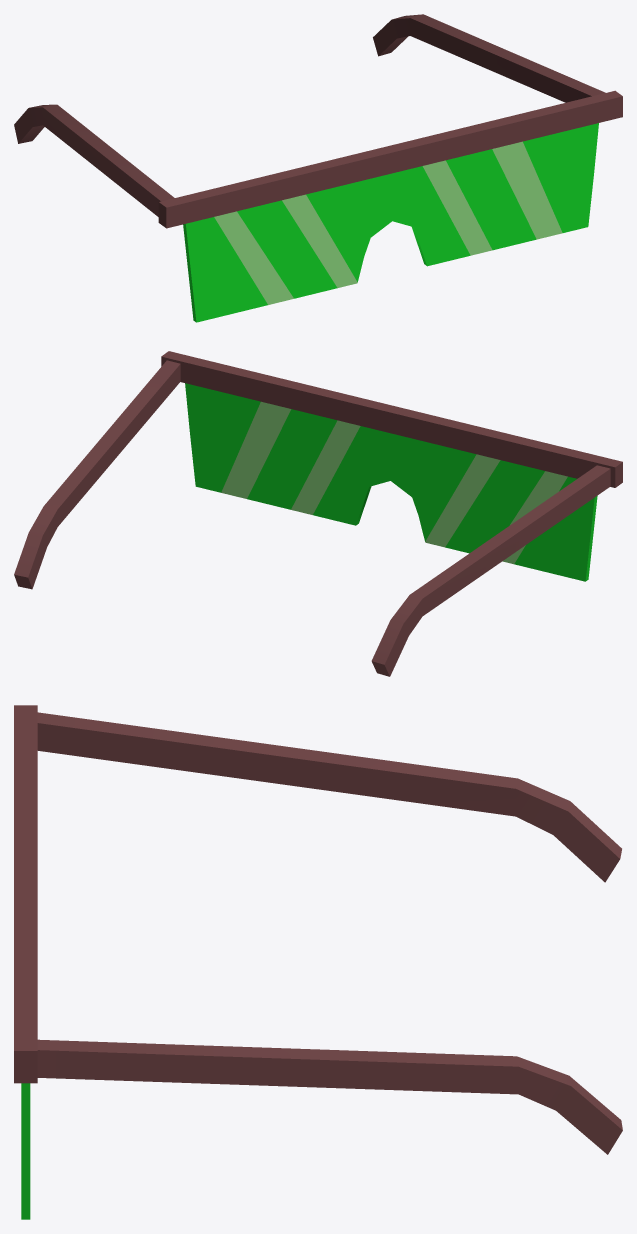
File: Glasses_01.fbx
3 renders of one model, top to bottom at view 1: azimuth 30°, elevation 25°; view 2: azimuth 150°, elevation 25°; view 3: azimuth 270°, elevation 25°, orthographic. The views are drawn at different scales.
Parts seen in each view (by area): view 1: Glasses_01.c, Glasses_stick_02, Glasses_stick_01.001; view 2: Glasses_01.c, Glasses_stick_01.001, Glasses_stick_02; view 3: Glasses_stick_01.001, Glasses_stick_02, Glasses_01.c.
Part boxes in pixels (<box>): Glasses_01.c: <box>158,90,622,322</box>; Glasses_stick_02: <box>373,14,605,102</box>; Glasses_stick_01.001: <box>14,104,174,216</box>; Glasses_01.c: <box>161,351,622,581</box>; Glasses_stick_01.001: <box>371,465,610,676</box>; Glasses_stick_02: <box>14,360,180,589</box>; Glasses_stick_01.001: <box>37,712,621,882</box>; Glasses_stick_02: <box>37,1039,622,1154</box>; Glasses_01.c: <box>14,705,37,1219</box>.
Size of the model in its own units: 0.7397 by 0.1929 by 0.551.
